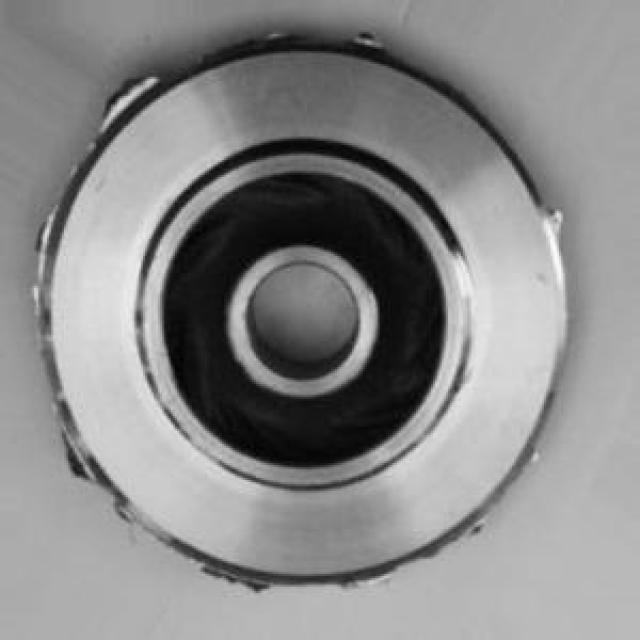Defect: (348, 21, 378, 55)
